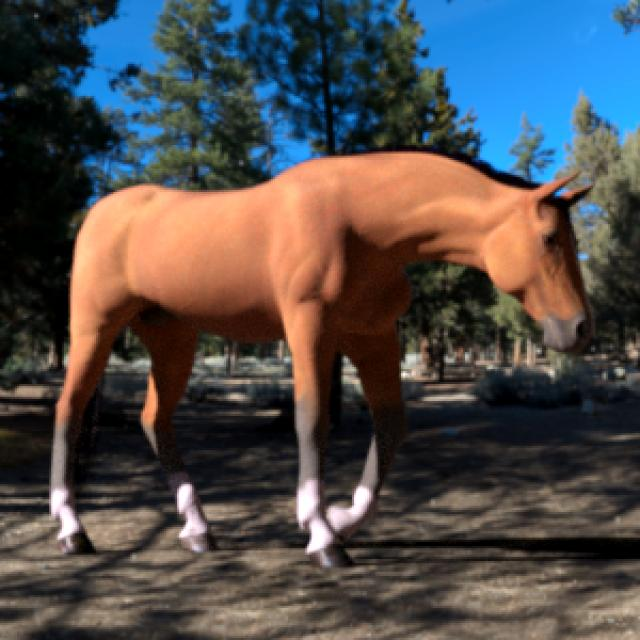horse: (50, 152, 592, 567)
